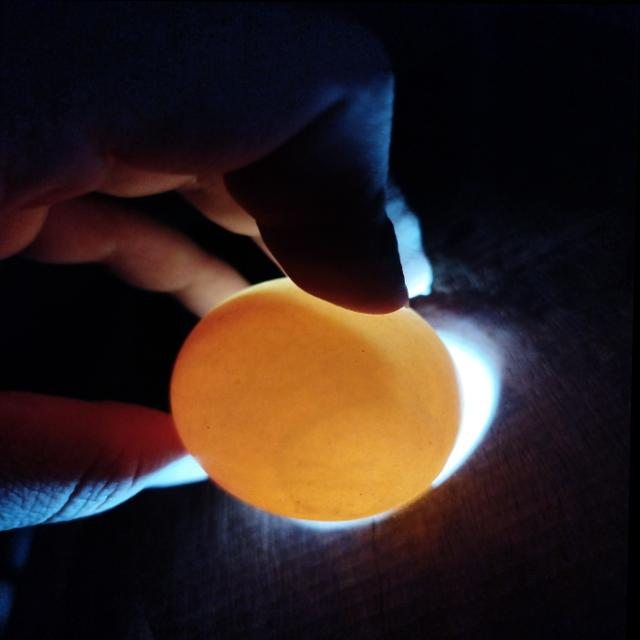Camara de Ar: (278, 402, 441, 514)
